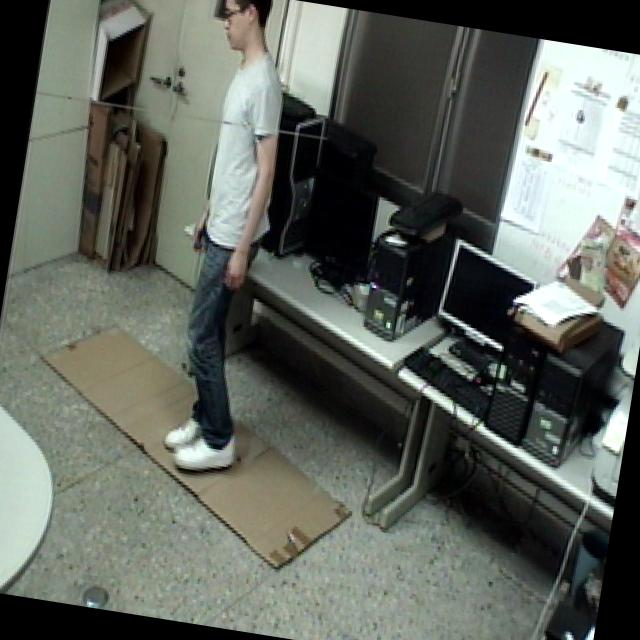stand: (137, 0, 318, 489)
